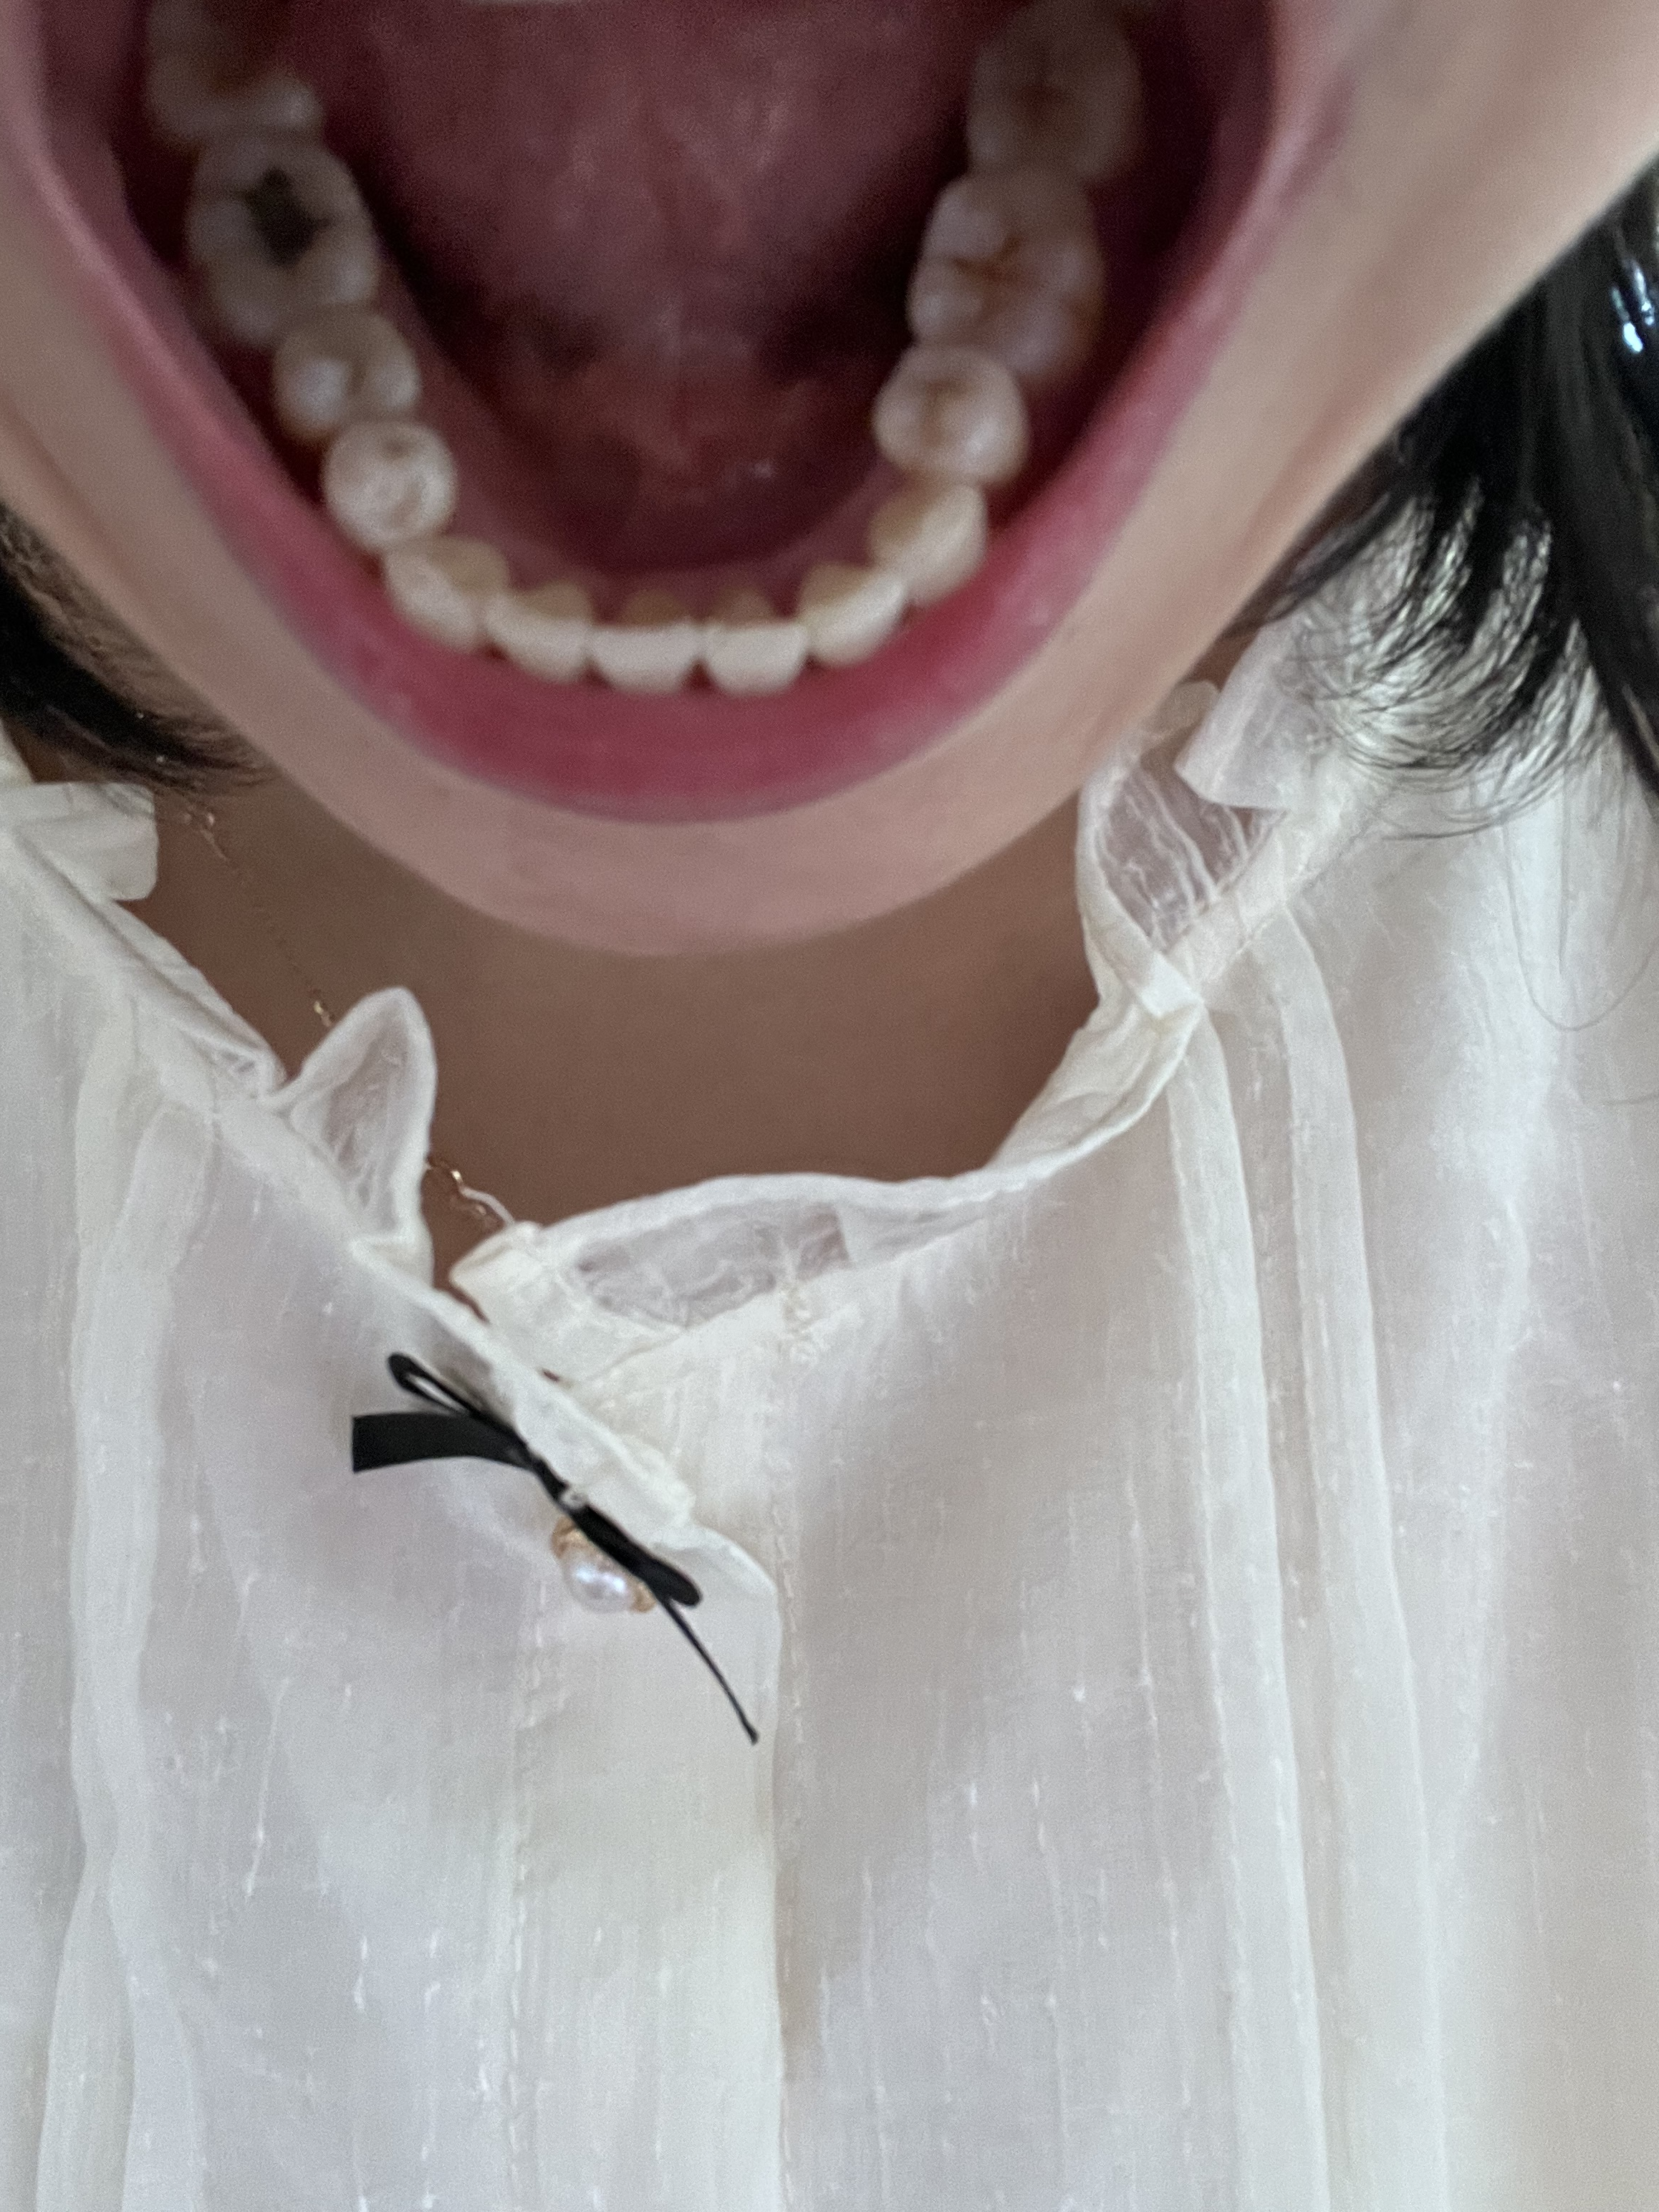teeth: (920, 169, 1108, 373), (190, 138, 385, 326), (978, 7, 1141, 158), (882, 350, 1030, 475), (148, 16, 310, 115), (275, 320, 411, 423), (326, 423, 444, 535), (868, 484, 986, 590), (389, 538, 504, 637), (704, 587, 803, 691), (491, 578, 586, 688), (592, 589, 695, 688), (807, 566, 904, 658)
